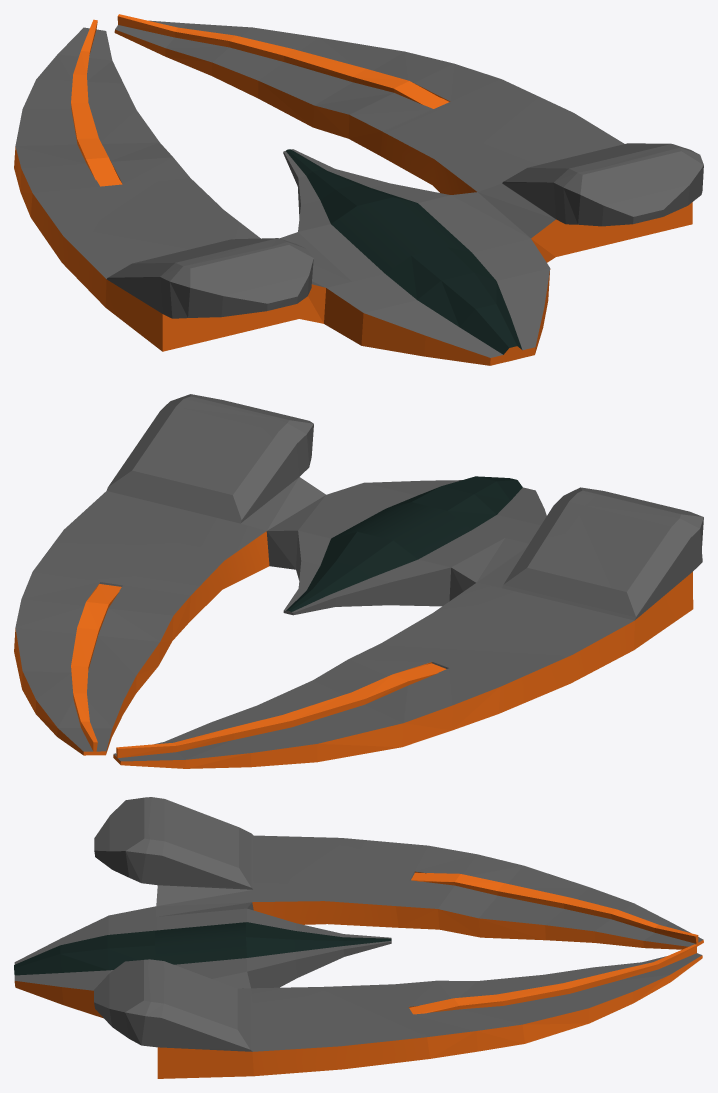
File: big-ship.FBX
3 views of the same model, one above another, from view 1: azimuth 30°, elevation 25°; view 2: azimuth 150°, elevation 25°; view 3: azimuth 270°, elevation 25° (orthographic). The views are drawn at different scales.
Visible parts, largest first — view 1: Cylinder002; view 2: Cylinder002; view 3: Cylinder002.
Part boxes in pixels (x1,y1,x2,y2): Cylinder002: (14, 14, 703, 365); Cylinder002: (14, 394, 703, 768); Cylinder002: (14, 797, 703, 1078).
Bounding box in the file's own units: 44.29 × 8.07 × 59.53.
